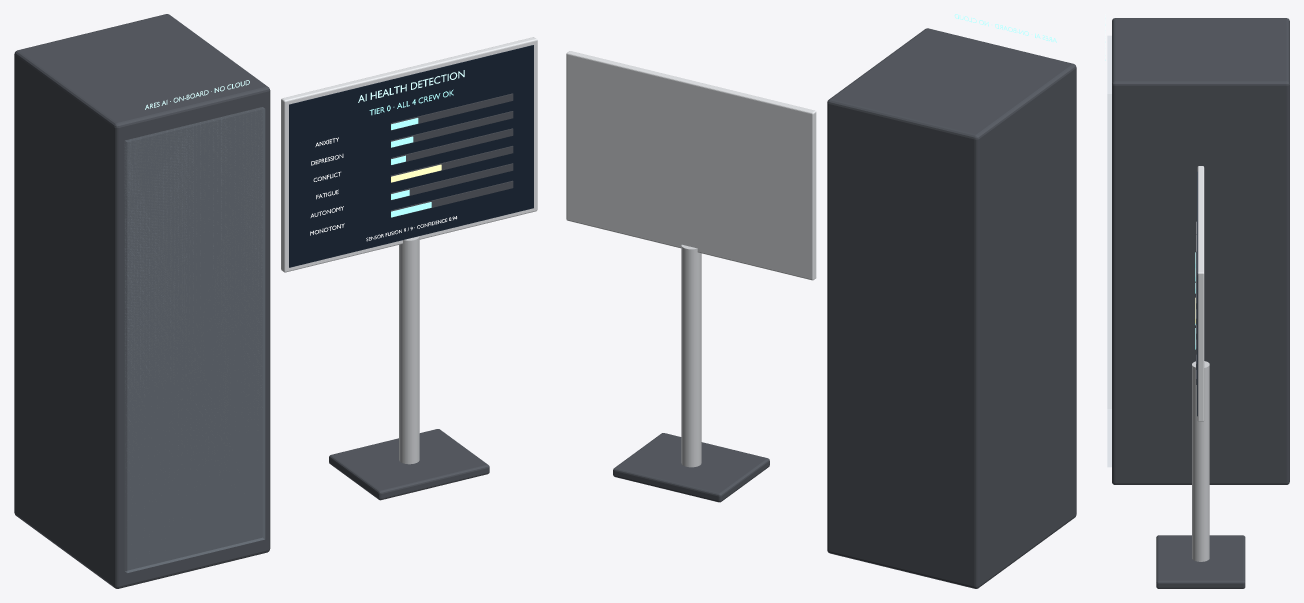
The model's file is ai_health_hub.glb.
3 renders of one model, left to right at view 1: azimuth 30°, elevation 25°; view 2: azimuth 150°, elevation 25°; view 3: azimuth 270°, elevation 25°, orthographic. The views are drawn at different scales.
Parts seen in each view (by area): view 1: Compute_Cabinet, Cabinet_Glass_Door, Detection_Dash_Panel, Dash_Foot, Detection_Dash_Bezel, Dash_Stand, Cond_Bar_track.002, Cond_Bar_track.004, Cond_Bar_track.001, Cond_Bar_track, Cond_Bar_track.005, Cond_Bar_track.003; view 2: Compute_Cabinet, Detection_Dash_Bezel, Dash_Foot, Dash_Stand; view 3: Compute_Cabinet, Dash_Foot, Dash_Stand, Cabinet_Glass_Door, Detection_Dash_Bezel.
Boxes of the visible parts, box(x1,y1,x2,y2) form: Compute_Cabinet: box(14, 14, 270, 588); Cabinet_Glass_Door: box(125, 107, 264, 572); Detection_Dash_Panel: box(289, 45, 533, 267); Dash_Foot: box(329, 429, 489, 500); Detection_Dash_Bezel: box(281, 37, 537, 272); Dash_Stand: box(399, 236, 419, 464); Cond_Bar_track.002: box(390, 128, 513, 165); Cond_Bar_track.004: box(390, 163, 513, 200); Cond_Bar_track.001: box(390, 111, 513, 147); Cond_Bar_track: box(390, 93, 513, 130); Cond_Bar_track.005: box(390, 180, 513, 217); Cond_Bar_track.003: box(390, 146, 513, 182); Compute_Cabinet: box(827, 28, 1076, 588); Detection_Dash_Bezel: box(566, 51, 816, 280); Dash_Foot: box(613, 433, 769, 502); Dash_Stand: box(681, 244, 701, 467); Compute_Cabinet: box(1112, 18, 1289, 484); Dash_Foot: box(1156, 535, 1245, 588); Dash_Stand: box(1192, 361, 1209, 561); Cabinet_Glass_Door: box(1107, 36, 1111, 466); Detection_Dash_Bezel: box(1197, 166, 1204, 421).
Bounding box in the file's own units: 2.12 × 2.07 × 0.8304.
